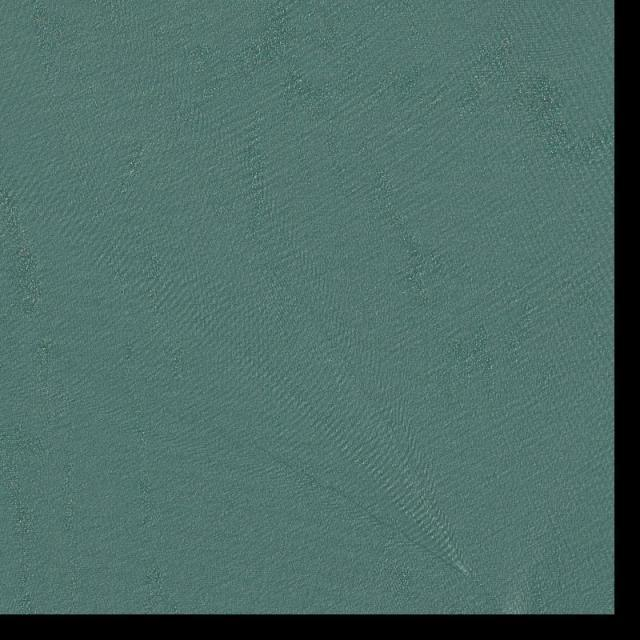ship: (466, 571, 470, 577)
